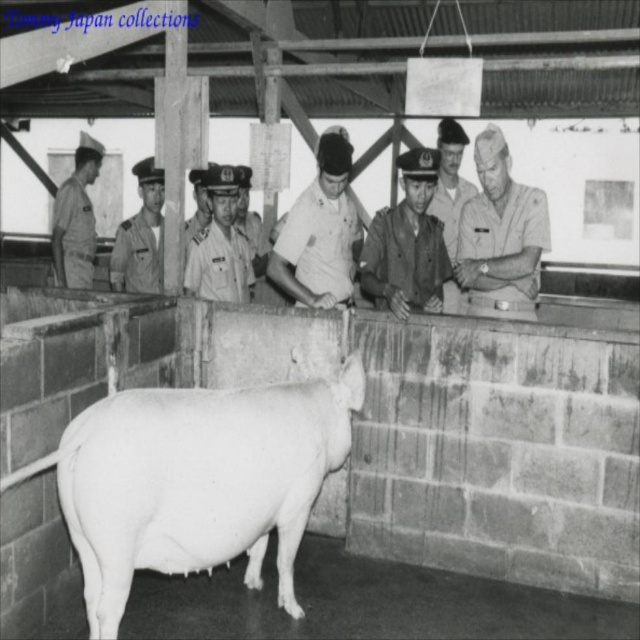Pig: (56, 346, 366, 639)
